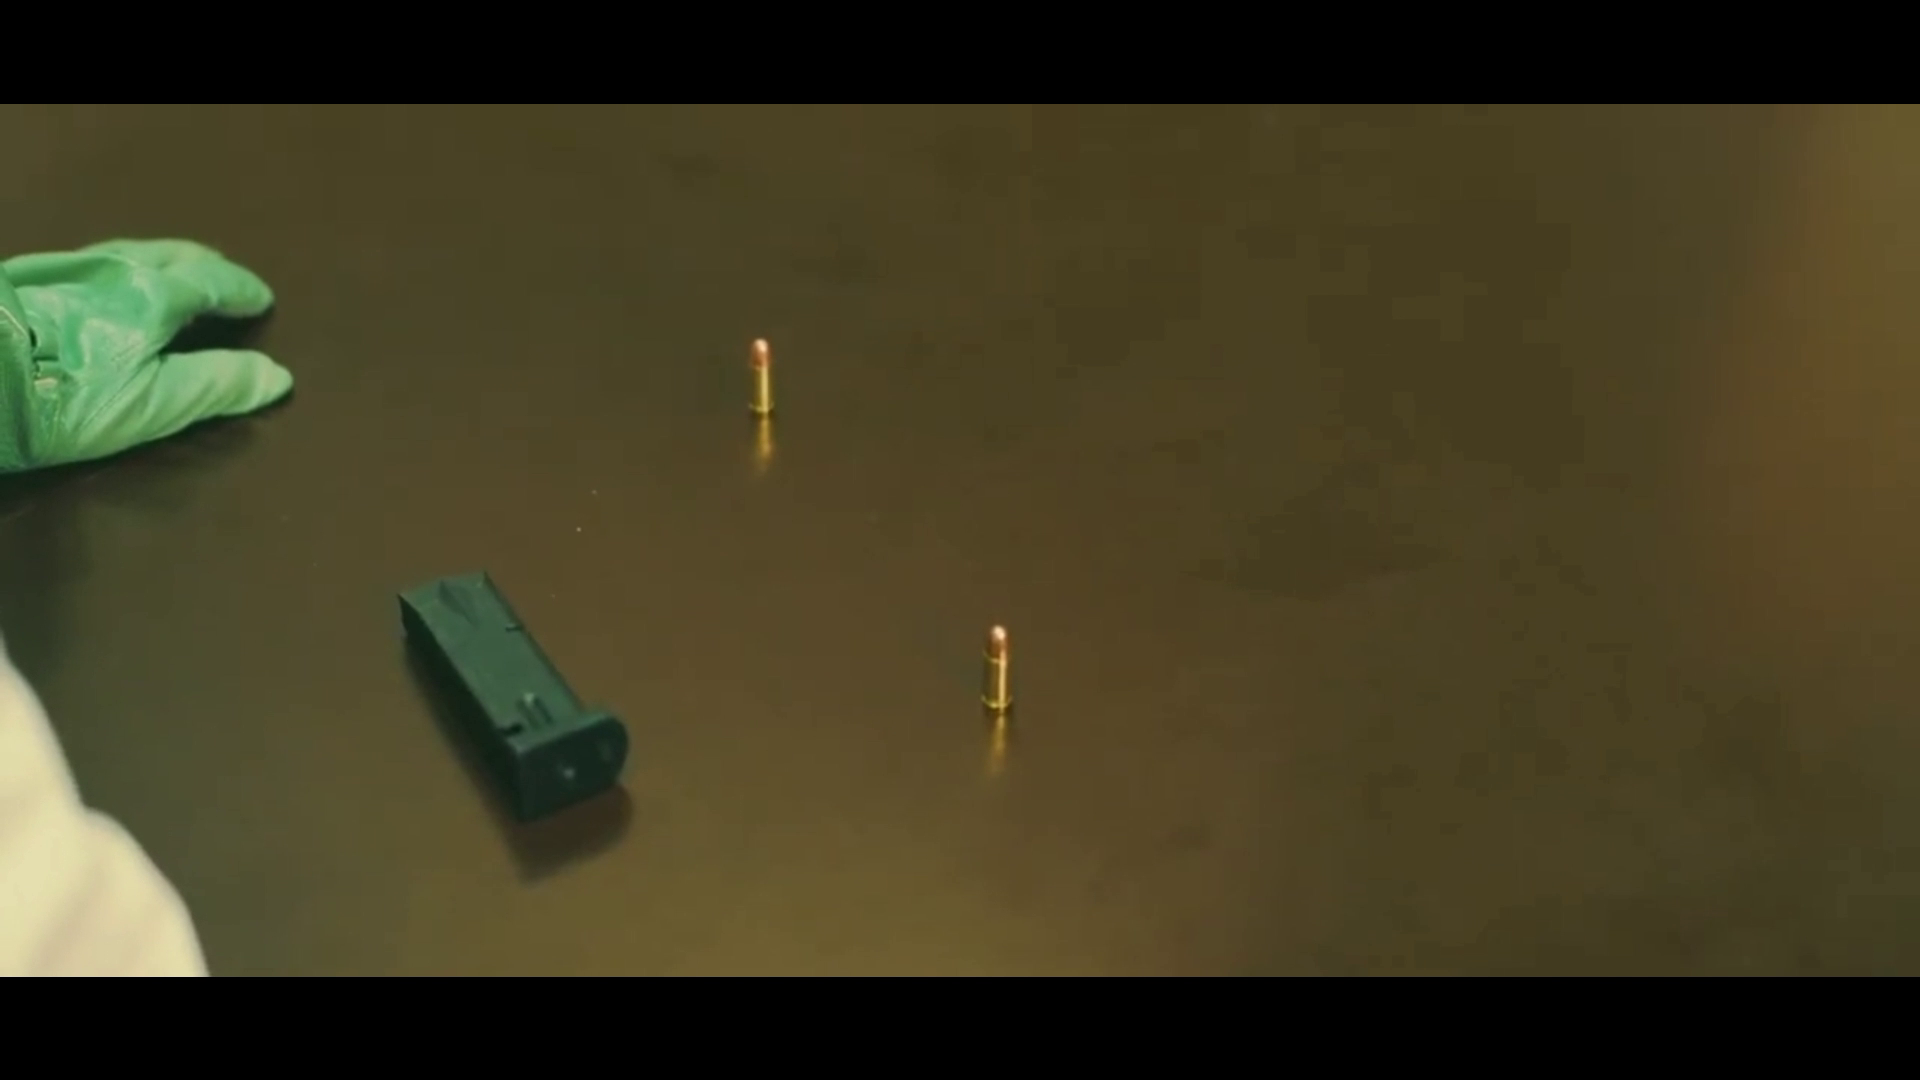Bullet: (976, 620, 1015, 717), (741, 337, 776, 419)
